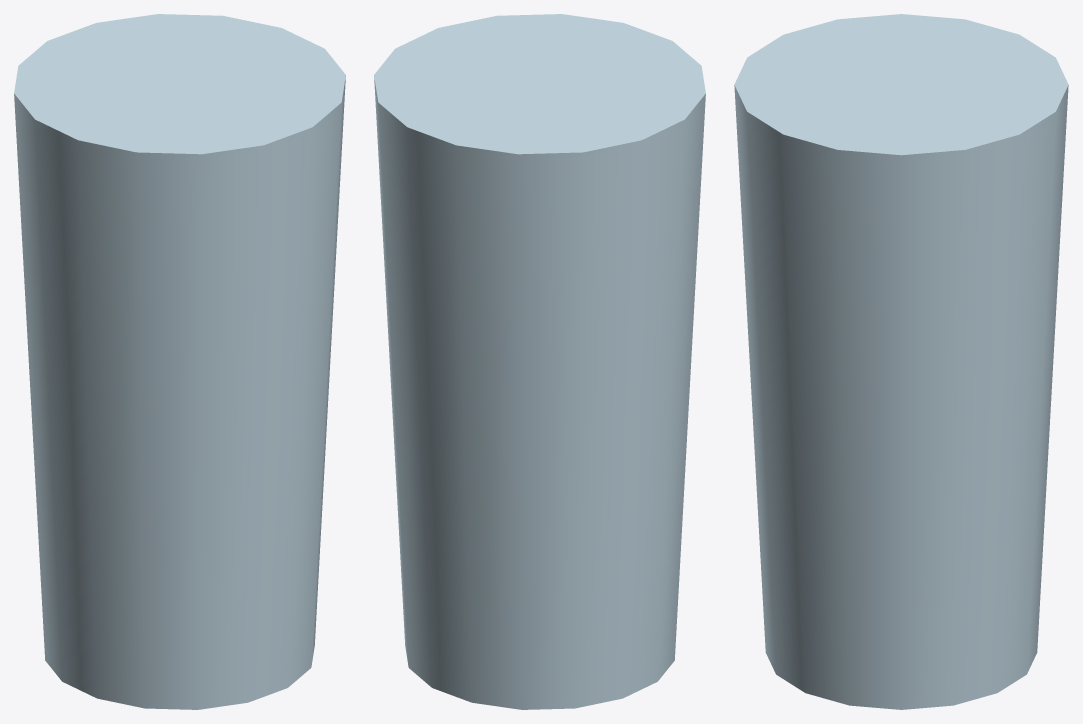
Rendered from glass.glb.
3 renders of one model, left to right at view 1: azimuth 30°, elevation 25°; view 2: azimuth 150°, elevation 25°; view 3: azimuth 270°, elevation 25°, orthographic.
Visible parts, largest first — view 1: cyl; view 2: cyl; view 3: cyl.
Part boxes in pixels (x1,y1,x2,y2): cyl: [14, 14, 345, 709]; cyl: [374, 14, 705, 709]; cyl: [734, 14, 1068, 709].
Size of the model in its own units: 0.064 by 0.12 by 0.064.
